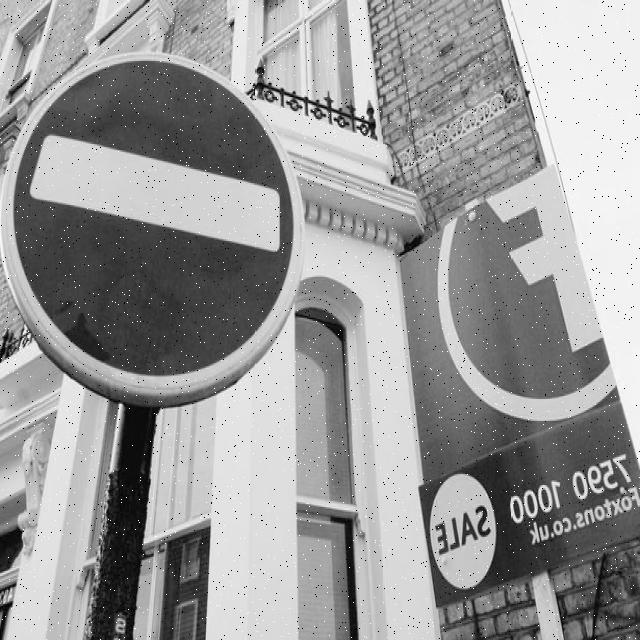no entry: (7, 48, 305, 400)
